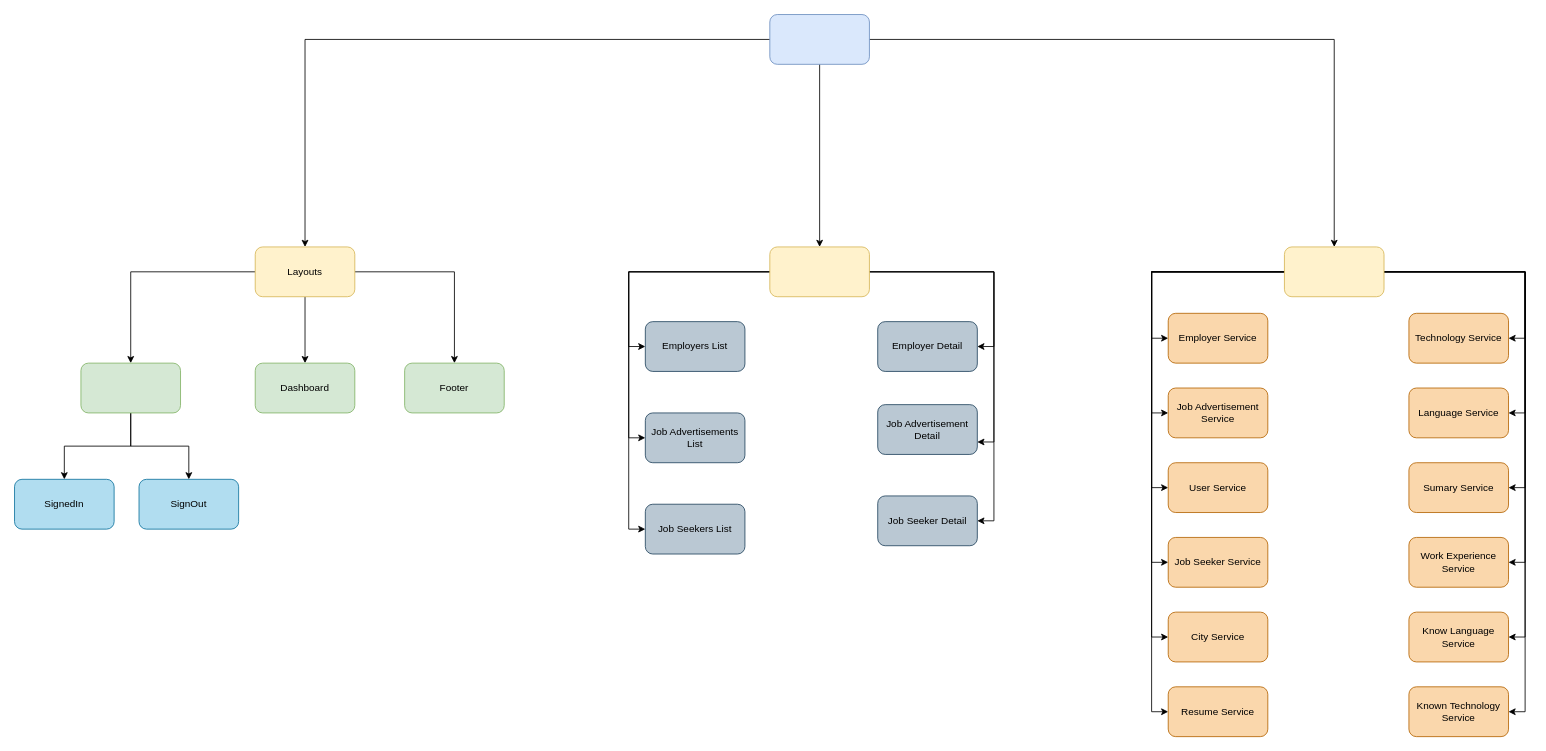
Some shapes in this 1546 by 751 pixel diagram are drawn without their labels. Here are the shapes that lost their labels. From the top down, the box of each, then its label:
(769, 14, 869, 64): App
(769, 246, 869, 297): Pages
(1284, 246, 1384, 297): Service
(80, 362, 181, 413): Navi
